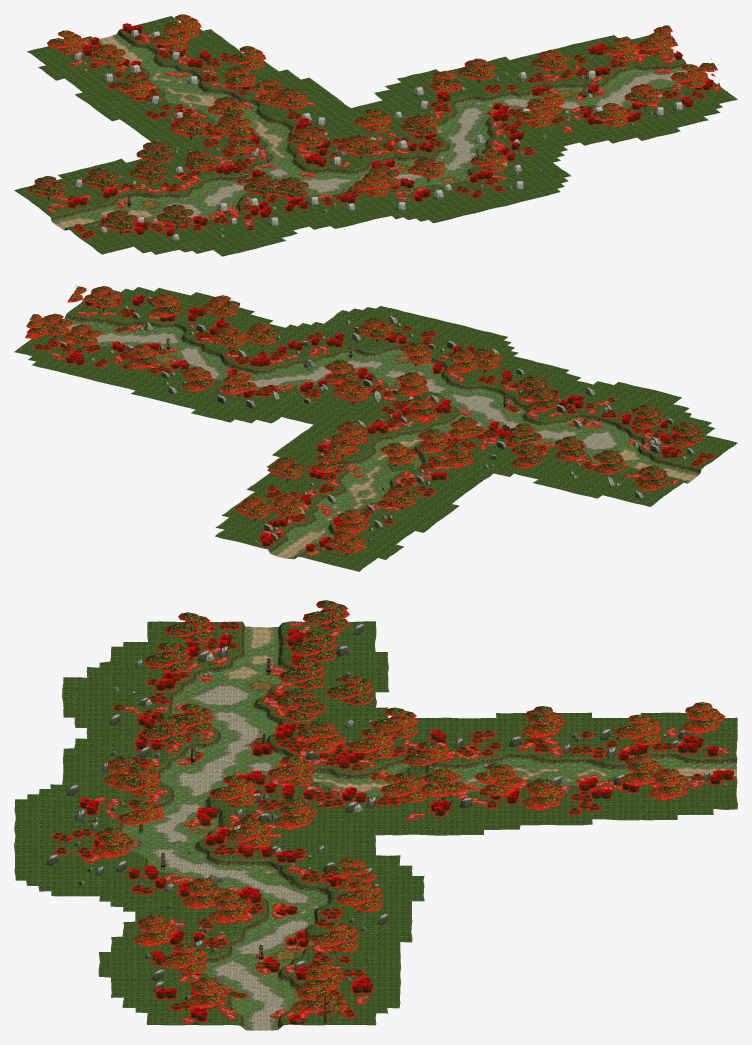
The model's file is NewAnselPath2.obj.
3 renders of one model, top to bottom at view 1: azimuth 30°, elevation 25°; view 2: azimuth 150°, elevation 25°; view 3: azimuth 270°, elevation 25°, orthographic. The views are drawn at different scales.
Visible parts, largest first — view 1: Object.000; view 2: Object.000; view 3: Object.000.
Boxes of the visible parts, x1=… form: Object.000: x1=14, y1=14, x2=737, y2=256; Object.000: x1=14, y1=285, x2=737, y2=571; Object.000: x1=14, y1=600, x2=737, y2=1030.
Size of the model in its own units: 159 by 7.17 by 120.
13 materials, 13 textured.
